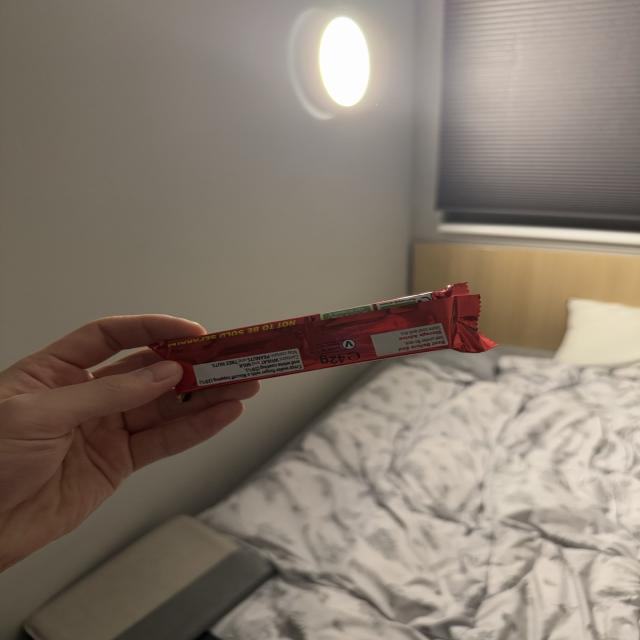chocolate: (125, 278, 500, 404)
